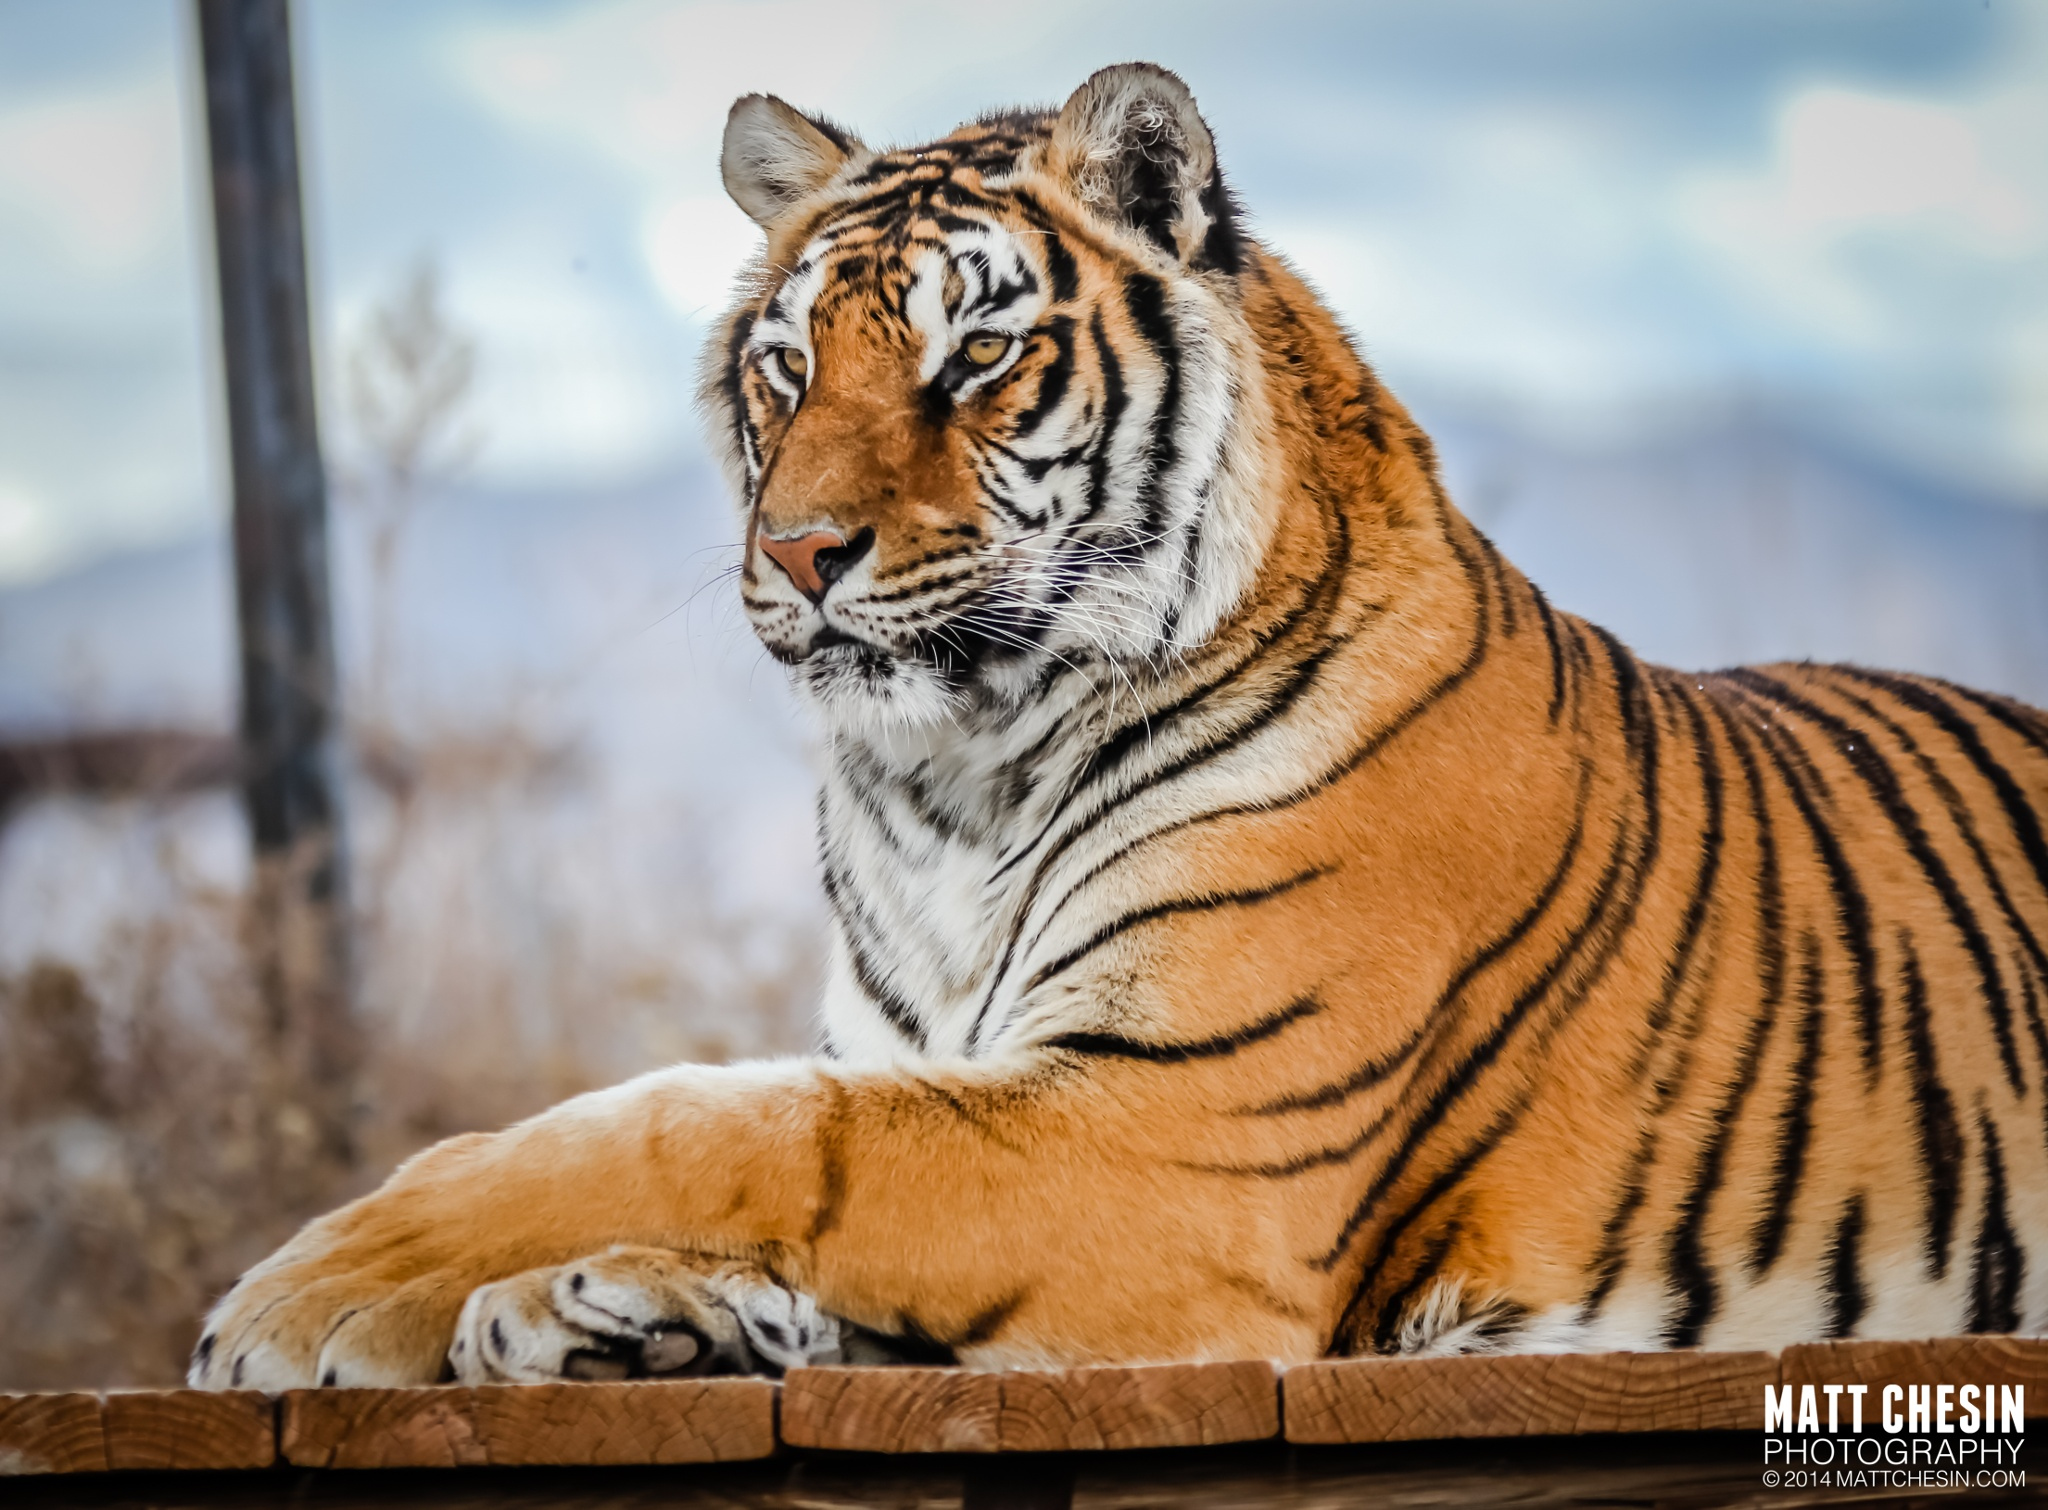tiger: (324, 68, 2015, 1369)
